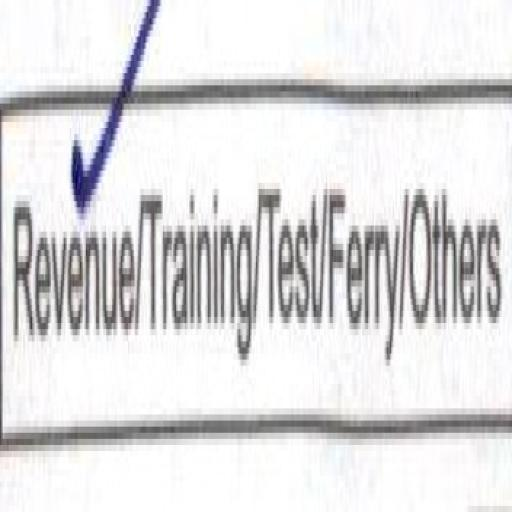check: (5, 43, 136, 444)
